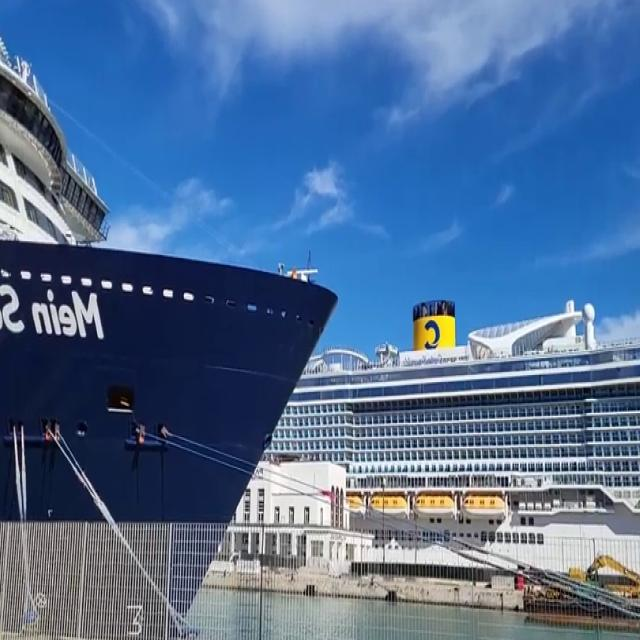passenger ship: (0, 90, 289, 640), (274, 285, 640, 578)
